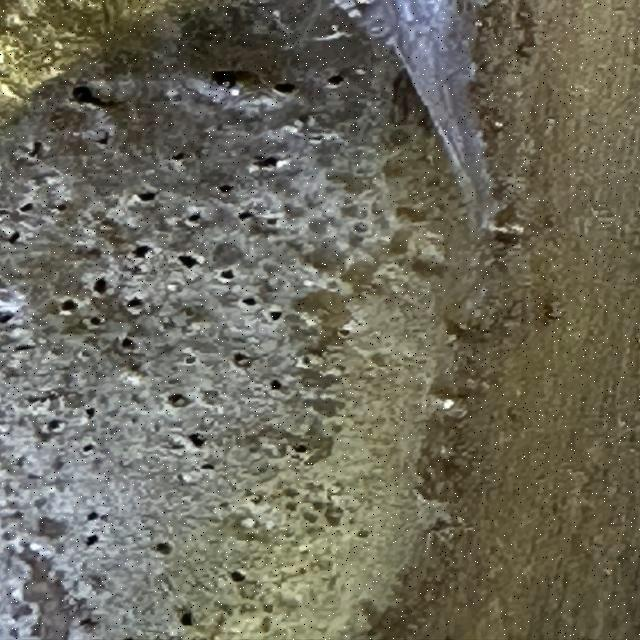Excess Reinforcement: (462, 189, 525, 245)
Porosity: (3, 0, 448, 639), (238, 210, 287, 231), (72, 86, 113, 106), (212, 71, 260, 88), (248, 155, 290, 171), (27, 141, 50, 158), (17, 198, 43, 212), (172, 152, 192, 170), (42, 419, 65, 434), (125, 296, 143, 315), (232, 352, 253, 368), (168, 394, 192, 408), (178, 255, 198, 269), (273, 82, 297, 93), (132, 245, 152, 258), (188, 434, 205, 448), (93, 278, 107, 294), (87, 511, 108, 521), (82, 442, 97, 455), (62, 299, 78, 311), (180, 612, 193, 626), (183, 352, 197, 365), (157, 542, 172, 554), (137, 192, 156, 201), (328, 75, 345, 85), (97, 131, 110, 144), (0, 312, 15, 323), (122, 338, 135, 350), (8, 231, 20, 244), (230, 571, 245, 581), (187, 212, 202, 222), (90, 316, 105, 326), (220, 270, 235, 280), (85, 535, 98, 546), (85, 408, 97, 419), (242, 298, 258, 306), (218, 184, 233, 192), (270, 380, 282, 390), (270, 311, 282, 321), (338, 328, 350, 338), (292, 445, 308, 452), (202, 462, 215, 470), (53, 204, 67, 211)
Spatters: (97, 131, 110, 144), (157, 542, 172, 553)
